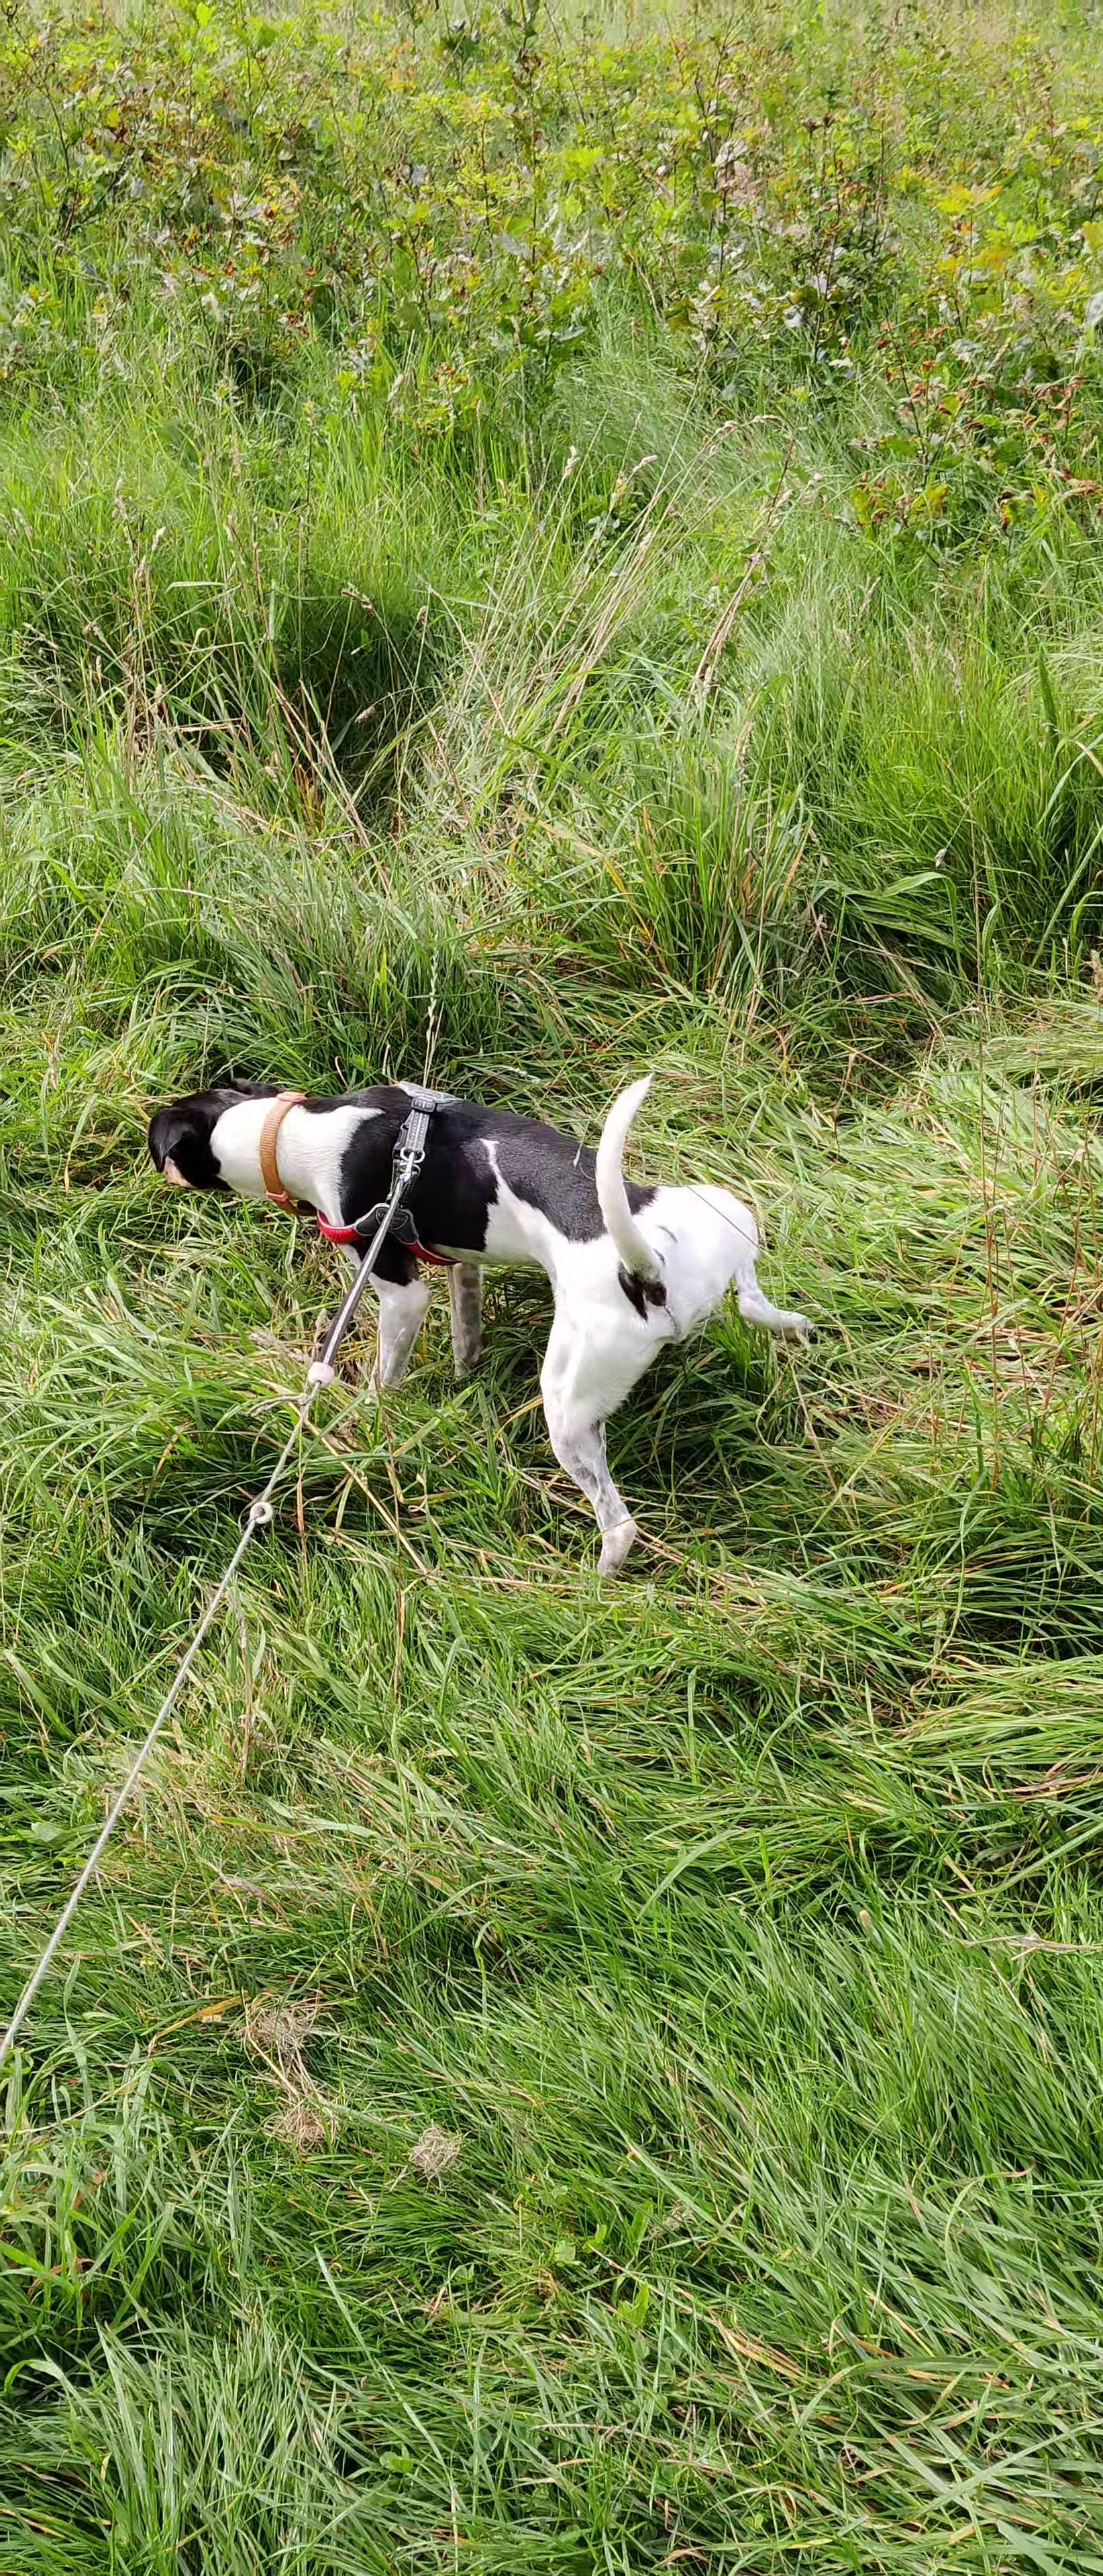Dog: (135, 1066, 819, 1584)
